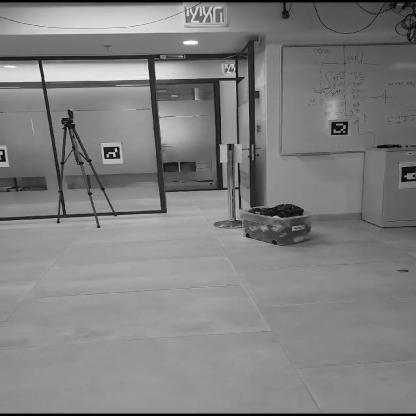open: (142, 76, 246, 224)
